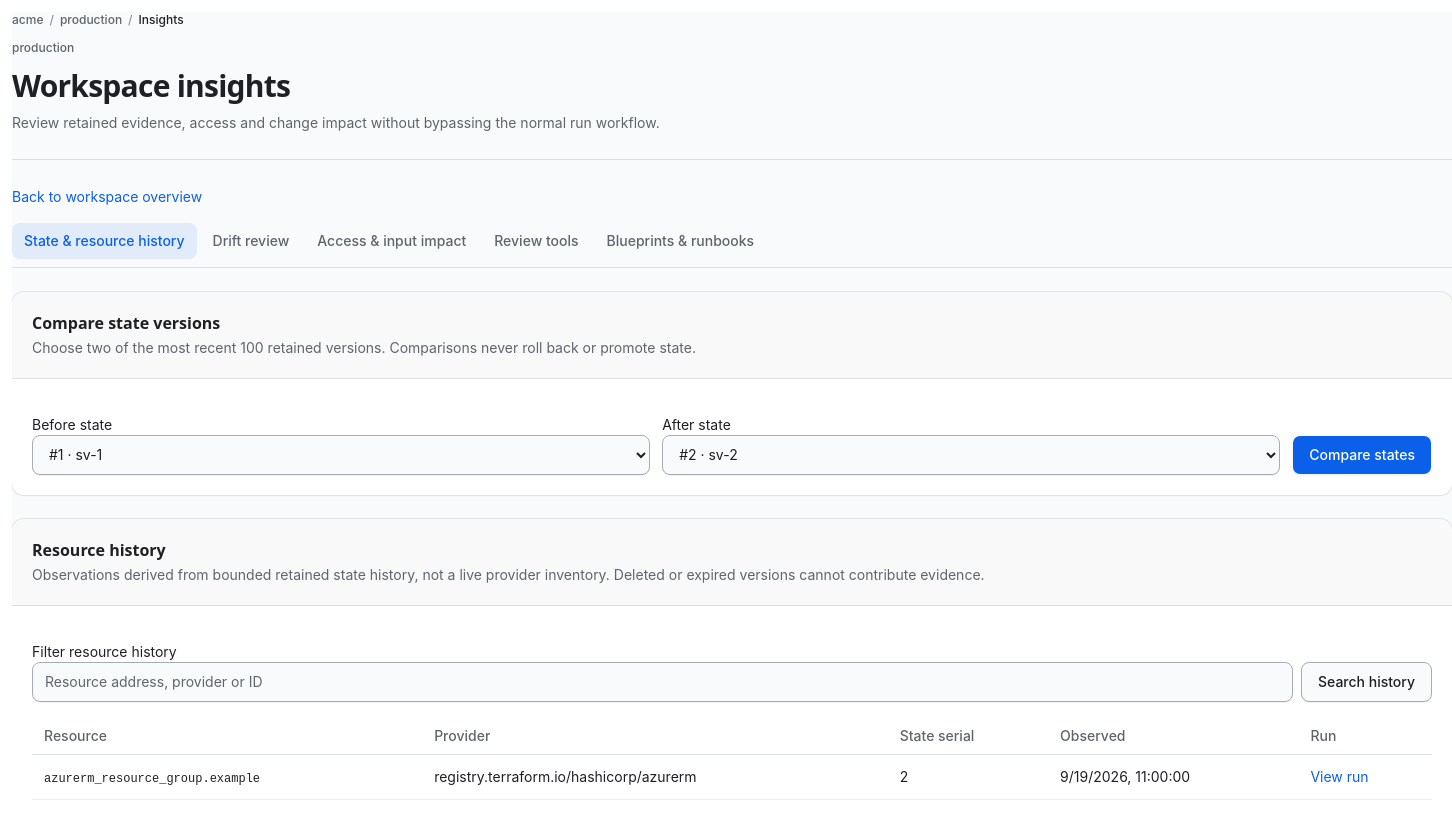
workspace insights compares retained state evidence without implying live cloud state
expect the heading "Workspace insights" is shown: met, box [12, 65, 290, 106]
expect the text "Compare state versions" is shown: met, box [32, 312, 220, 334]
Click the button "Compare states": (1362, 455) [1292, 435, 1432, 475]
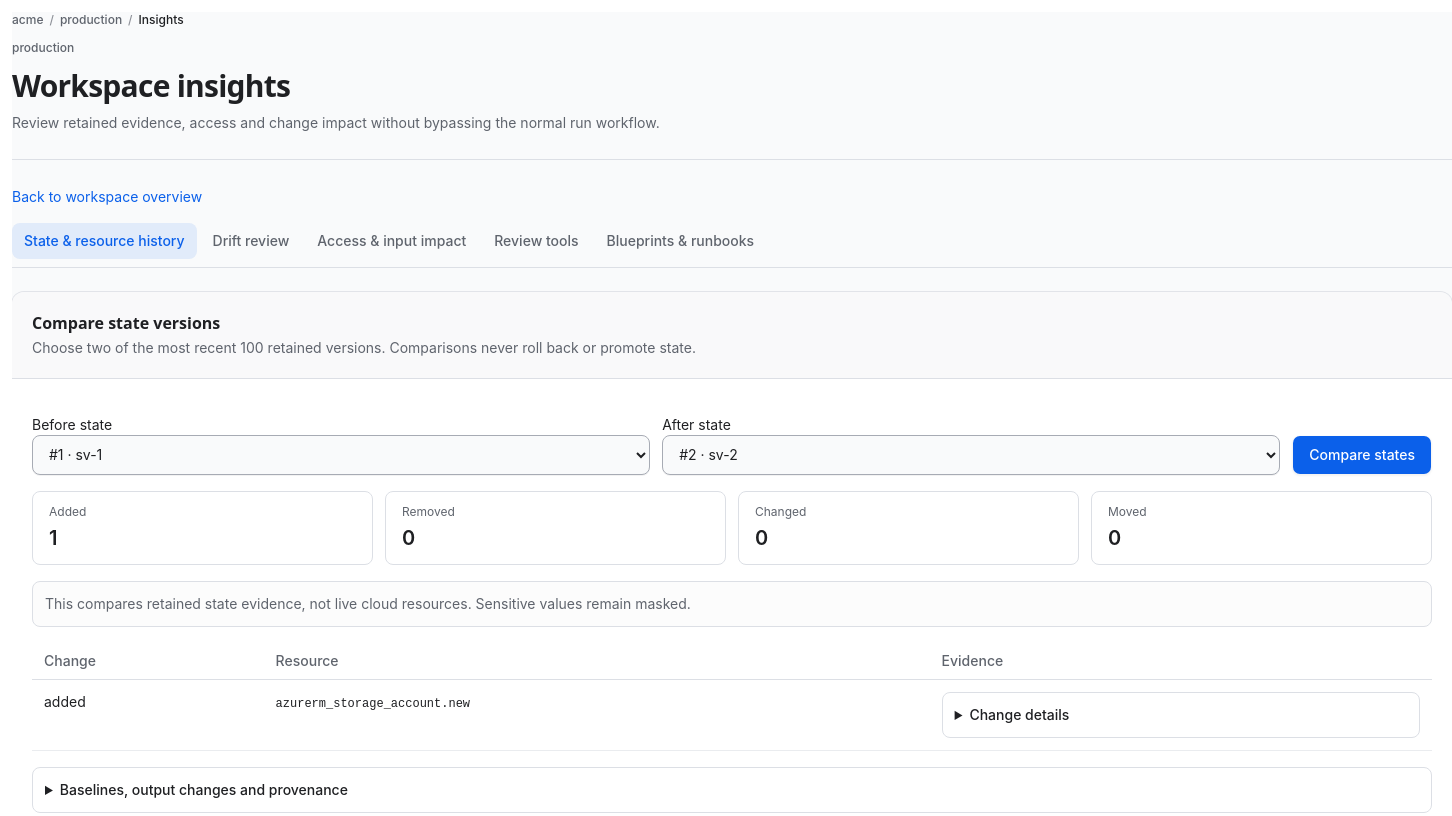
expect the text "retained state evidence, not live cloud resources" is shown: met, box [45, 595, 691, 612]
expect the text "azurerm_storage_account.new" is shown: met, box [276, 697, 470, 711]
